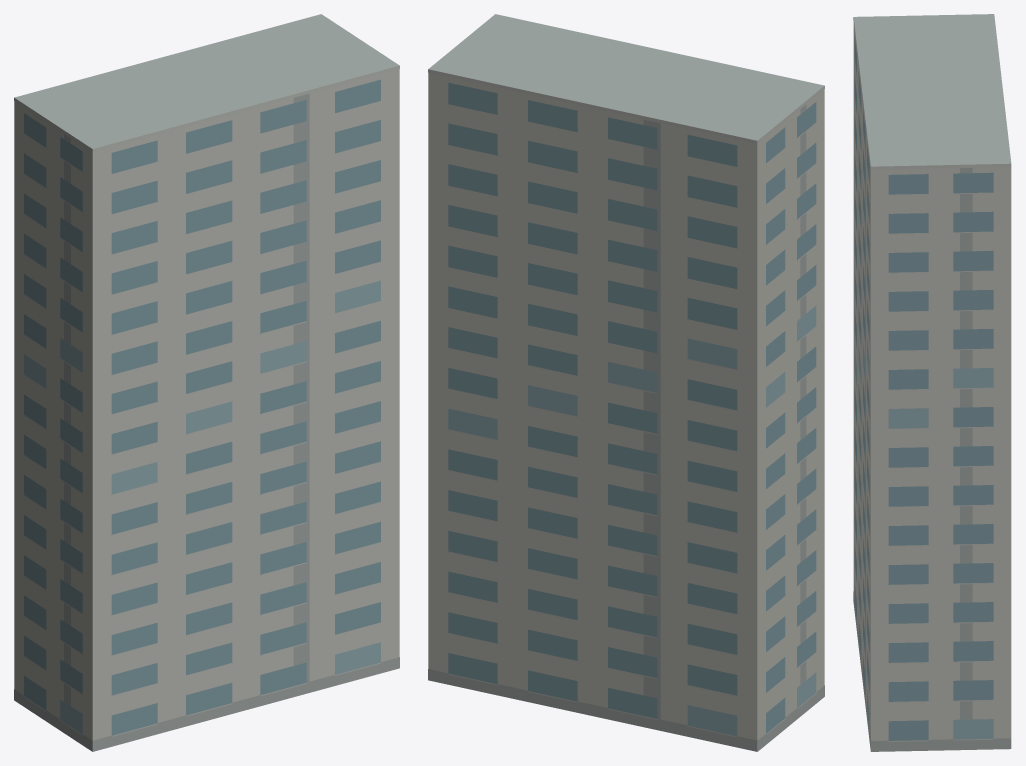
File: residential-6dea75b1-e889-4227-a86a-153091c529a4.glb
3 renders of one model, left to right at view 1: azimuth 30°, elevation 25°; view 2: azimuth 150°, elevation 25°; view 3: azimuth 270°, elevation 25°, orthographic. The views are drawn at different scales.
Parts seen in each view (by area): view 1: residential-6dea75b1-e889-4227-a86a-153091c529a4.tmp; view 2: residential-6dea75b1-e889-4227-a86a-153091c529a4.tmp; view 3: residential-6dea75b1-e889-4227-a86a-153091c529a4.tmp.
Boxes of the visible parts, left/top/right/bottom form: residential-6dea75b1-e889-4227-a86a-153091c529a4.tmp: left=14, top=14, right=399, bottom=751; residential-6dea75b1-e889-4227-a86a-153091c529a4.tmp: left=428, top=14, right=824, bottom=751; residential-6dea75b1-e889-4227-a86a-153091c529a4.tmp: left=853, top=14, right=1011, bottom=751.
Size of the model in its own units: 23.49 by 42 by 10.28.
